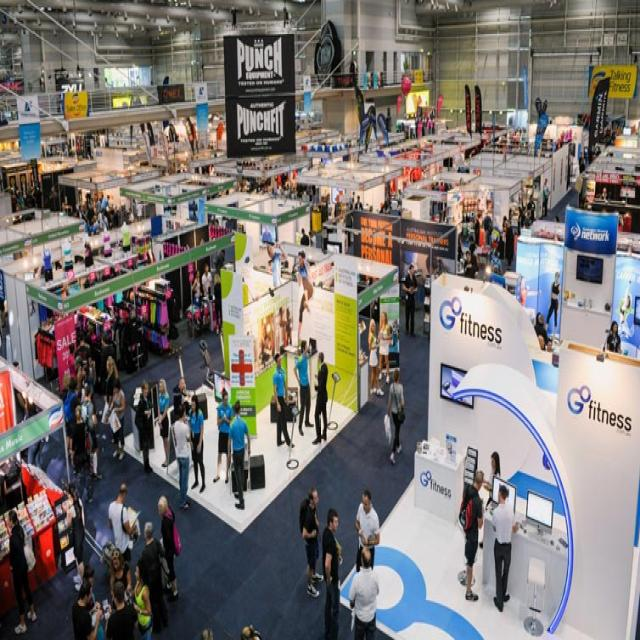body: (454, 201, 515, 279), (4, 507, 39, 636), (136, 519, 170, 637), (458, 469, 484, 603), (297, 483, 326, 600), (69, 185, 134, 236), (320, 504, 344, 639), (347, 541, 380, 638), (491, 482, 515, 615), (106, 482, 142, 566), (156, 494, 183, 604), (533, 263, 563, 356), (227, 398, 251, 512), (60, 337, 96, 409), (381, 366, 406, 466), (237, 173, 310, 207), (516, 176, 565, 225), (272, 350, 296, 450), (292, 338, 315, 439), (210, 386, 233, 485), (66, 483, 88, 584), (172, 399, 192, 510), (354, 488, 380, 573), (132, 377, 154, 476), (102, 578, 138, 638), (70, 578, 106, 638), (9, 359, 34, 444), (259, 306, 293, 365), (294, 246, 314, 344), (131, 558, 154, 640), (104, 376, 126, 461), (262, 242, 290, 308), (310, 349, 329, 446), (188, 393, 206, 495), (80, 383, 99, 477), (10, 177, 58, 213), (96, 332, 116, 416), (62, 376, 80, 468), (50, 133, 99, 164), (368, 316, 386, 398), (613, 280, 634, 348), (401, 262, 419, 338), (71, 403, 89, 478), (109, 545, 132, 603), (156, 377, 170, 468), (483, 448, 502, 510), (377, 310, 392, 388), (198, 622, 266, 639), (82, 563, 100, 616), (428, 170, 451, 211), (412, 108, 439, 140), (105, 354, 122, 404), (575, 145, 604, 174), (212, 269, 224, 337), (377, 185, 408, 211), (253, 214, 278, 244), (290, 108, 316, 136), (359, 64, 385, 90), (348, 191, 374, 214), (606, 319, 621, 356), (183, 193, 200, 224), (191, 268, 203, 308), (200, 263, 213, 299), (607, 124, 623, 148), (300, 225, 312, 245), (308, 229, 317, 250), (178, 376, 188, 394), (598, 184, 608, 200), (182, 397, 190, 411)
